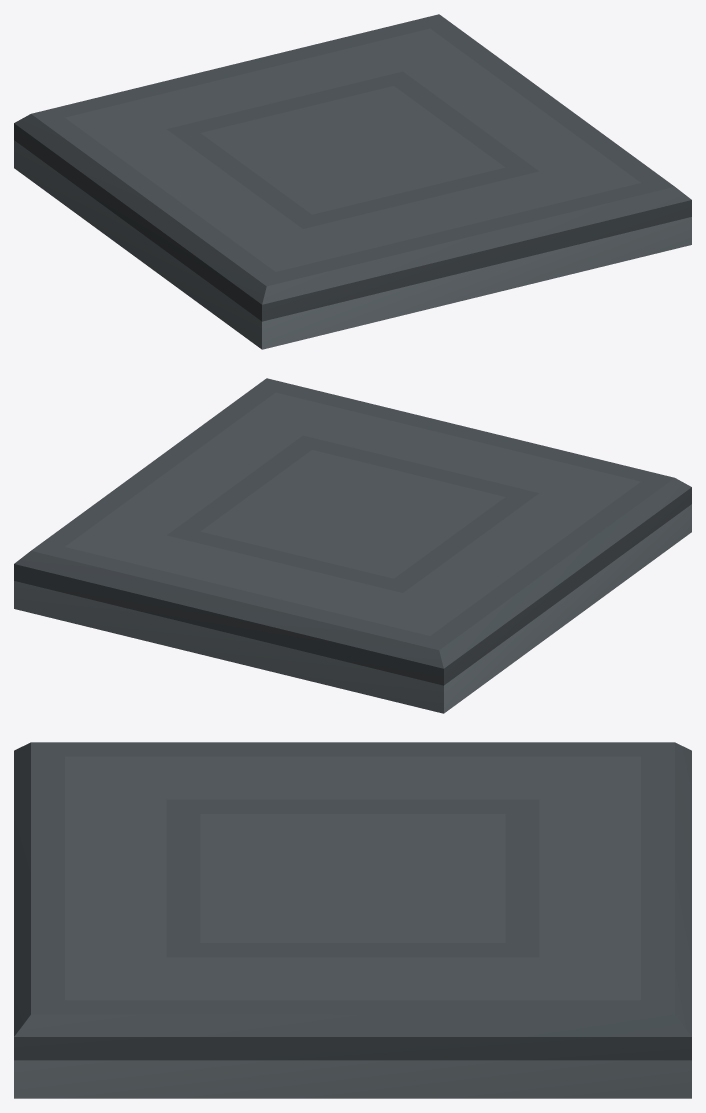
The model's file is platform.glb.
3 renders of one model, top to bottom at view 1: azimuth 30°, elevation 25°; view 2: azimuth 150°, elevation 25°; view 3: azimuth 270°, elevation 25°, orthographic. The views are drawn at different scales.
Parts seen in each view (by area): view 1: Floor; view 2: Floor; view 3: Floor.
Part boxes in pixels (x1,y1,x2,y2): Floor: (14, 14, 691, 349); Floor: (14, 378, 691, 713); Floor: (14, 742, 691, 1098).
Size of the model in its own units: 4 by 0.5 by 4.
1 material, 1 textured.
